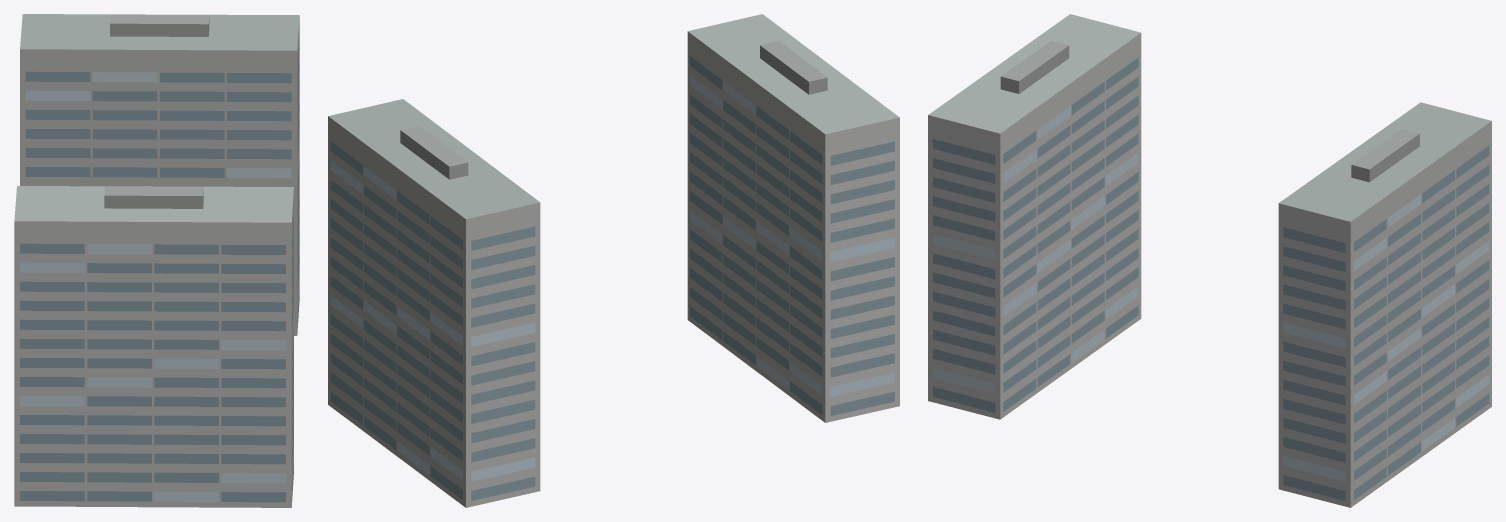
Rendered from apt-a13080401.glb.
3 views of the same model, side by side, from view 1: azimuth 30°, elevation 25°; view 2: azimuth 150°, elevation 25°; view 3: azimuth 270°, elevation 25° (orthographic).
Parts seen in each view (by area): view 1: apt-a13080401; view 2: apt-a13080401; view 3: apt-a13080401.
Boxes of the visible parts, <box> form: apt-a13080401: <box>14,14,299,507</box>; apt-a13080401: <box>328,14,899,507</box>; apt-a13080401: <box>928,14,1491,507</box>.
Size of the model in its own units: 71.33 by 47.81 by 81.72.
